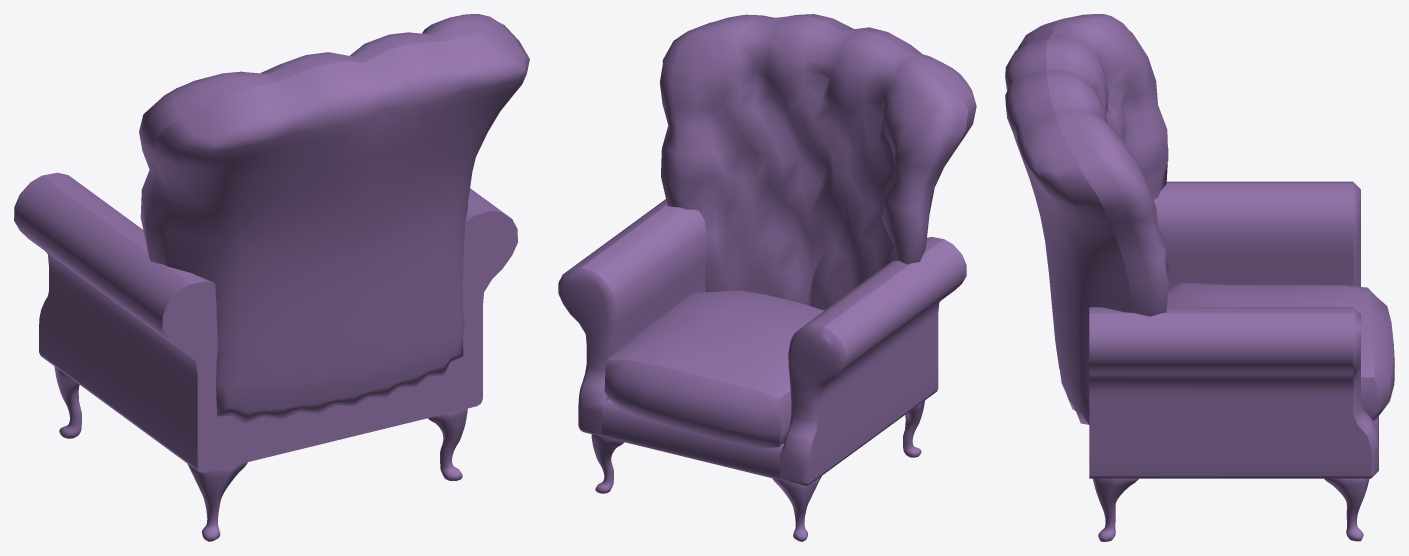
Rendered from bigchairlow.fbx.
3 renders of one model, left to right at view 1: azimuth 30°, elevation 25°; view 2: azimuth 150°, elevation 25°; view 3: azimuth 270°, elevation 25°, orthographic. The views are drawn at different scales.
Parts seen in each view (by area): view 1: Back_low, Armrests_low, Leg2_low, Leg1_low, Leg3_low; view 2: Back_low, Armrests_low, Cushion_low, Leg3_low, Leg4_low, Leg2_low; view 3: Armrests_low, Back_low, Cushion_low, Leg1_low, Leg4_low.
Part boxes in pixels (box(x1,y1,x2,y2)): Back_low: box(139, 14, 529, 423); Armrests_low: box(14, 172, 517, 472); Leg2_low: box(187, 462, 247, 541); Leg1_low: box(428, 408, 467, 480); Leg3_low: box(54, 366, 81, 438); Back_low: box(659, 14, 976, 310); Armrests_low: box(558, 199, 966, 486); Cushion_low: box(604, 290, 823, 448); Leg3_low: box(772, 476, 821, 541); Leg4_low: box(591, 434, 624, 493); Leg2_low: box(903, 400, 924, 457); Armrests_low: box(1089, 181, 1378, 478); Back_low: box(1005, 14, 1168, 424); Cushion_low: box(1167, 282, 1394, 420); Leg1_low: box(1093, 478, 1138, 541); Leg4_low: box(1324, 478, 1369, 541).
Bounding box in the file's own units: 106 × 135 × 111.
